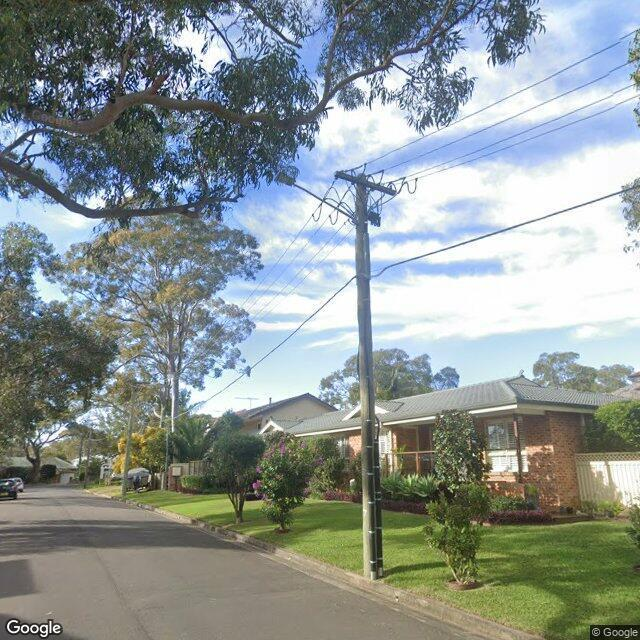crossarm: (335, 172, 398, 198), (122, 380, 152, 386)
streetlight: (276, 169, 360, 223)
timber-pole: (354, 173, 382, 581), (120, 382, 136, 498)
